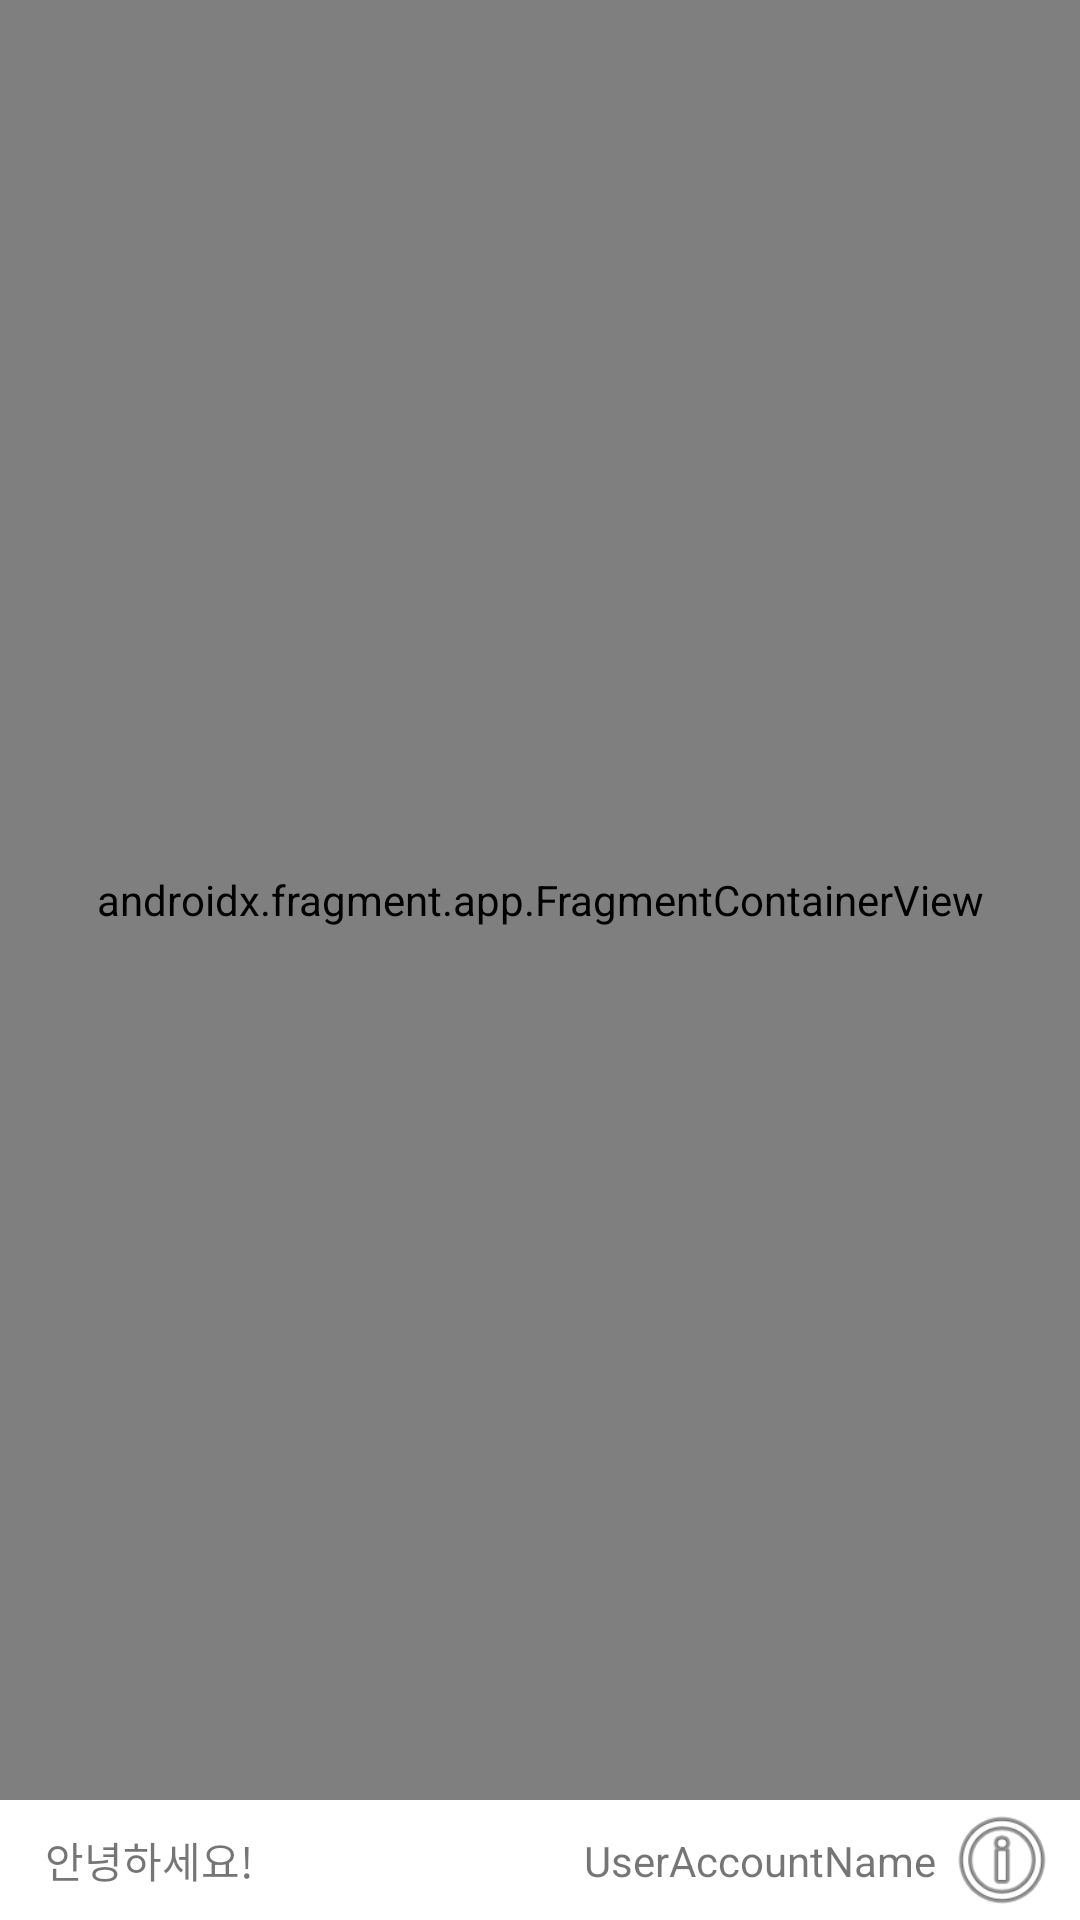

Named icons in this screenshot (1080*1920) and their centers, point (x, y):
info details: point (1002, 1860)
